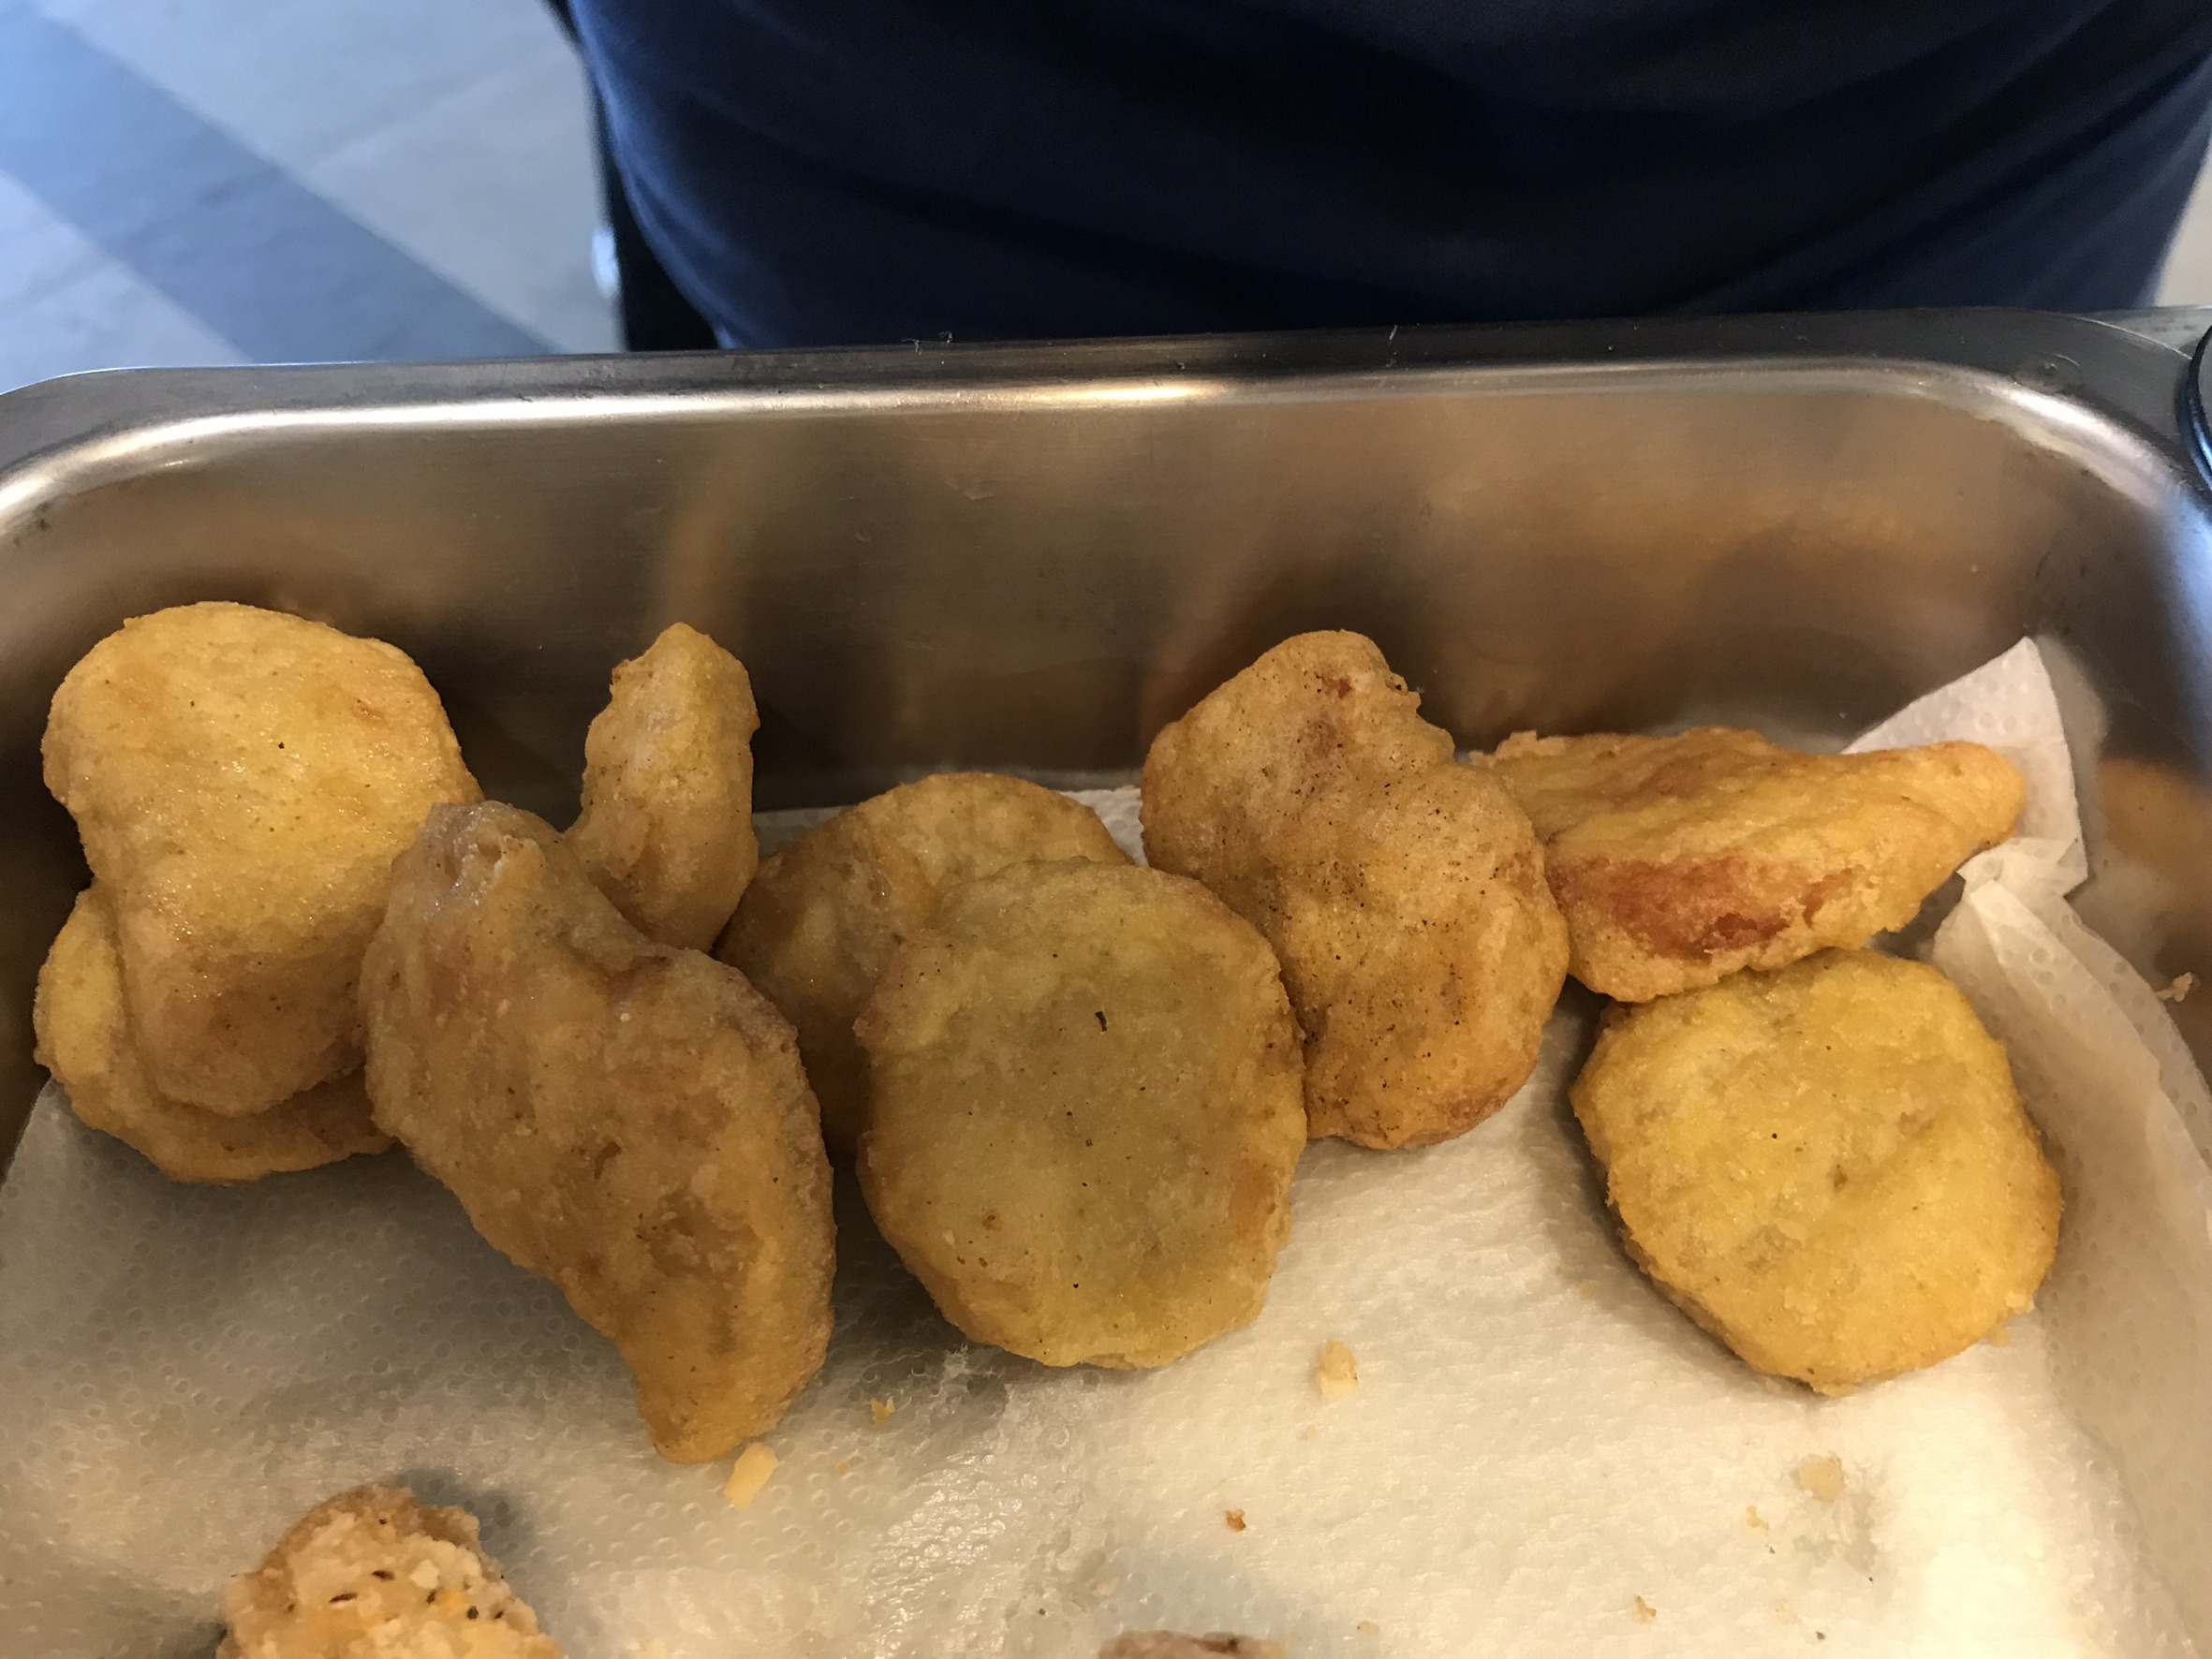chicken_nuggets: (45, 608, 2034, 1412)
